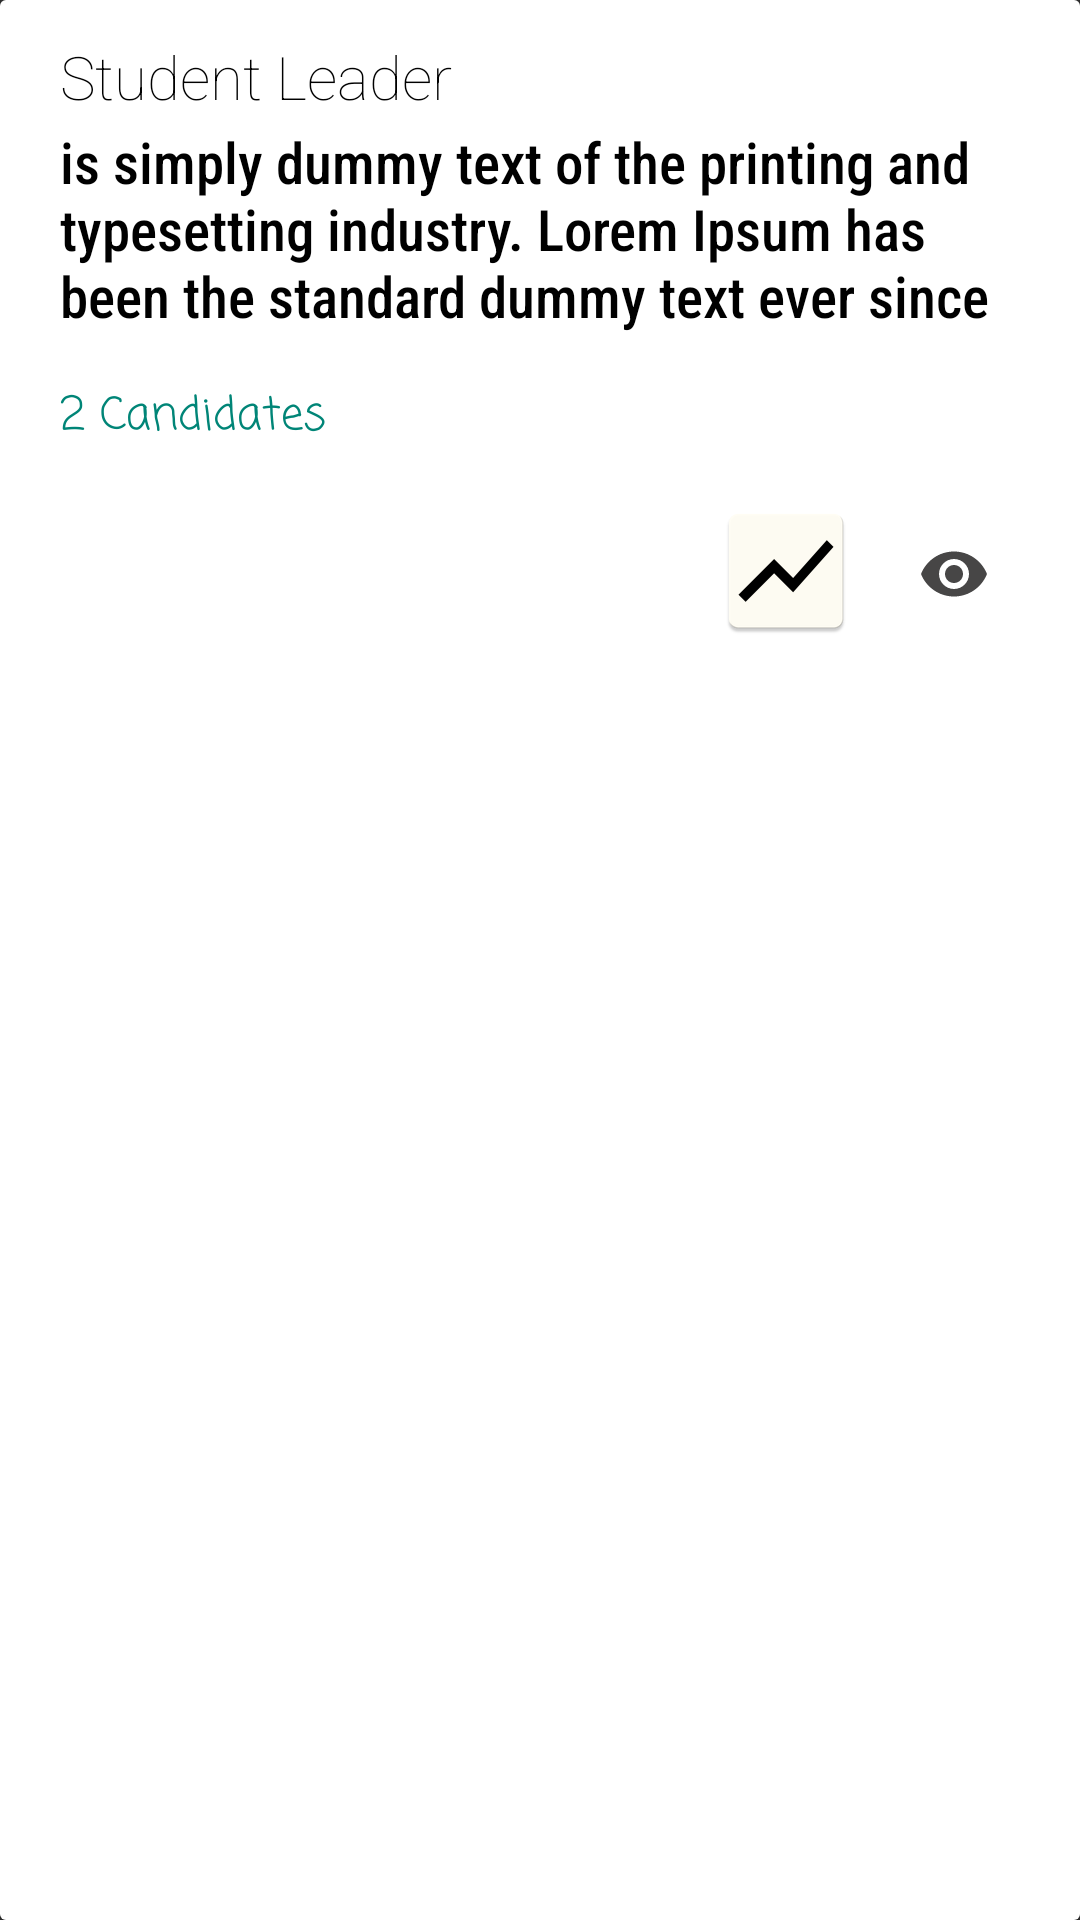

Where icons sit on this 1080px×1920px app screen, as {"left": x1, "top": y1, "right": x2, "bottom": y2}:
View Candidates: {"left": 921, "top": 551, "right": 987, "bottom": 597}
view charts: {"left": 728, "top": 514, "right": 844, "bottom": 633}
